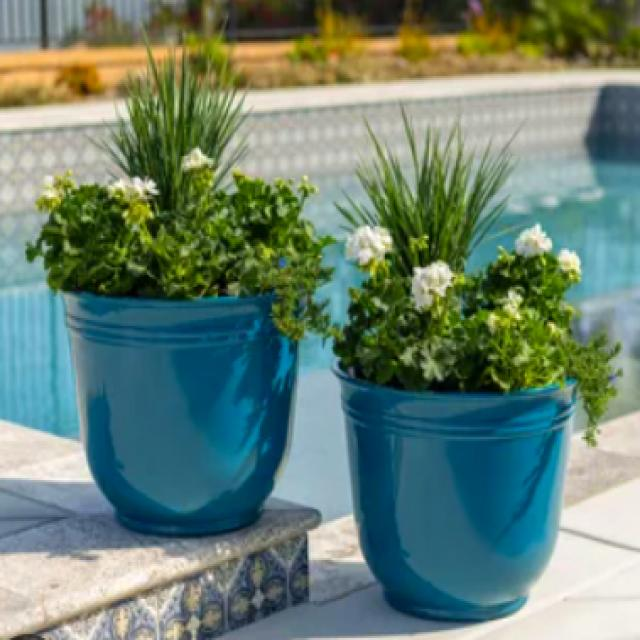Plant Pot: (39, 270, 326, 554), (328, 336, 604, 627)
